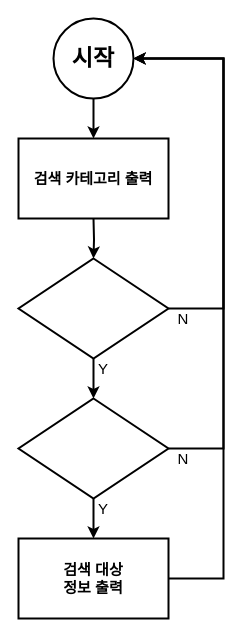
Some shapes in this 249 by 636 pixel diagram are drawn without their labels. The centre of each missing label's shape, as x and y in pixels:
검색 대상 입력: [93,448]
검색 카테고리 입력: [93,308]
